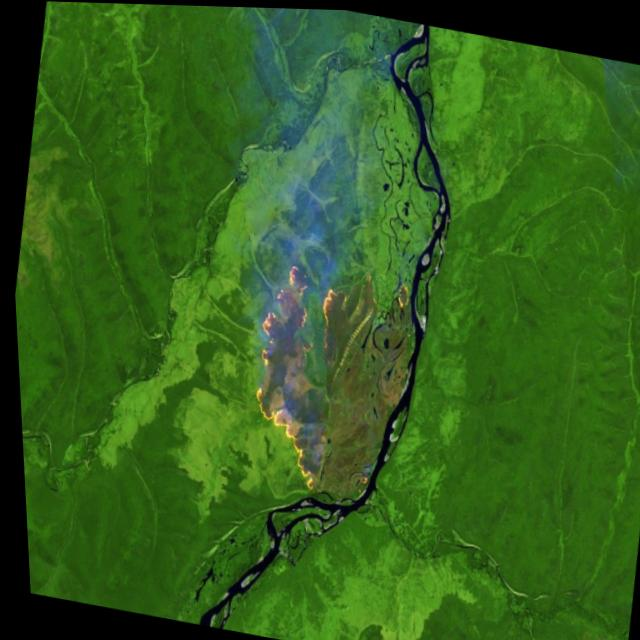fire: (225, 249, 384, 503), (384, 268, 416, 308)
